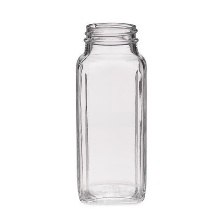bottle: (73, 16, 150, 211)
